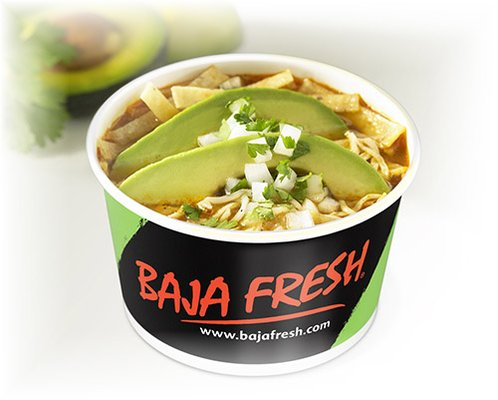sushi: (97, 62, 421, 373), (87, 54, 416, 249)
